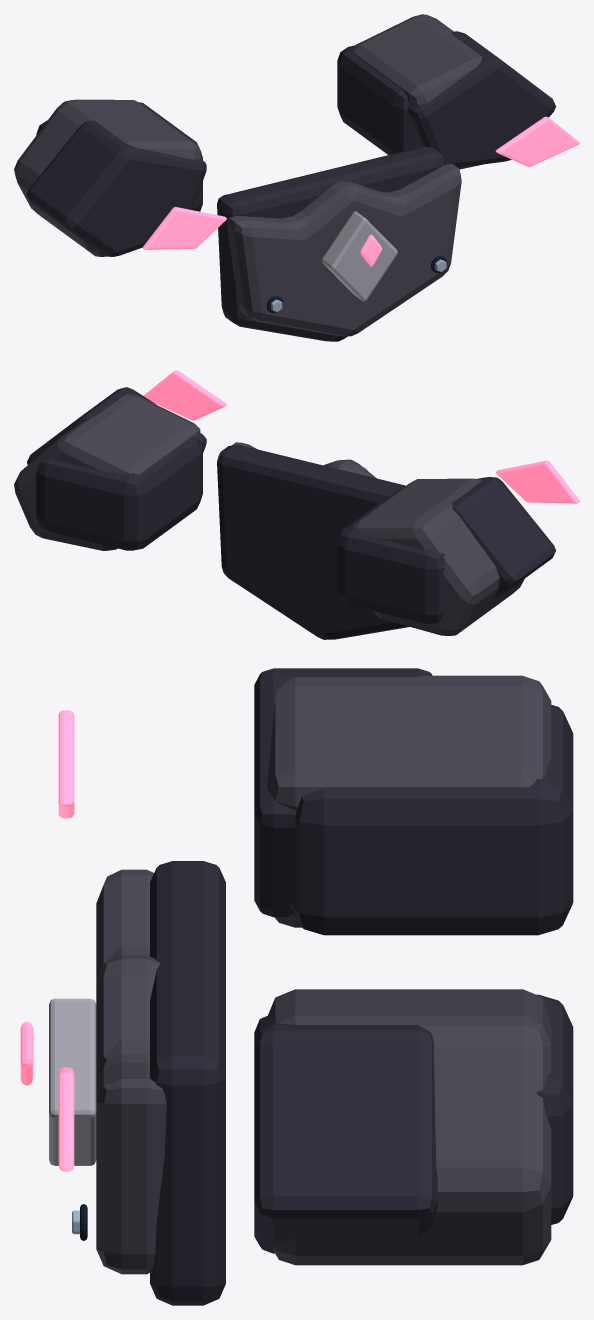
File: adaptive_shell.glb
3 renders of one model, top to bottom at view 1: azimuth 30°, elevation 25°; view 2: azimuth 150°, elevation 25°; view 3: azimuth 270°, elevation 25°, orthographic. The views are drawn at different scales.
Parts seen in each view (by area): view 1: ModuleArmor; view 2: ModuleArmor; view 3: ModuleArmor.
Boxes of the visible parts, <box> form: ModuleArmor: <box>14,14,579,341</box>; ModuleArmor: <box>14,370,579,639</box>; ModuleArmor: <box>20,668,573,1305</box>.
Bounding box in the file's own units: 1.79 × 0.7639 × 0.875.
